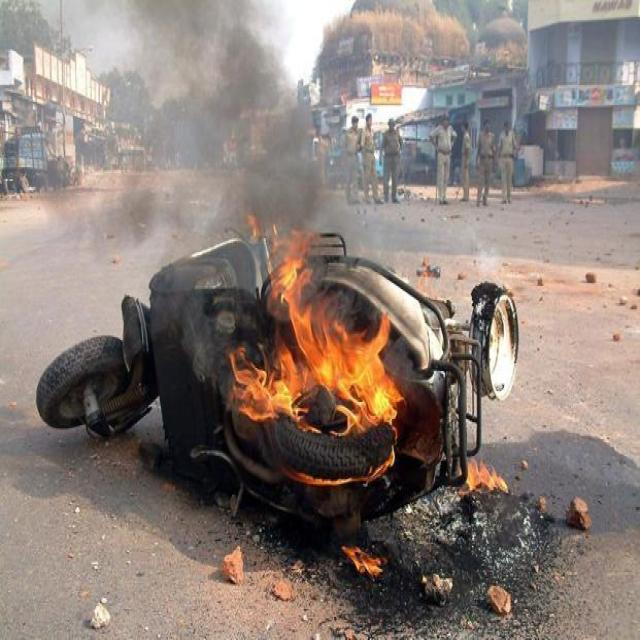fire: (299, 311, 406, 436), (246, 214, 316, 344), (225, 345, 299, 421), (280, 447, 394, 485), (468, 455, 509, 494), (341, 547, 386, 577)
